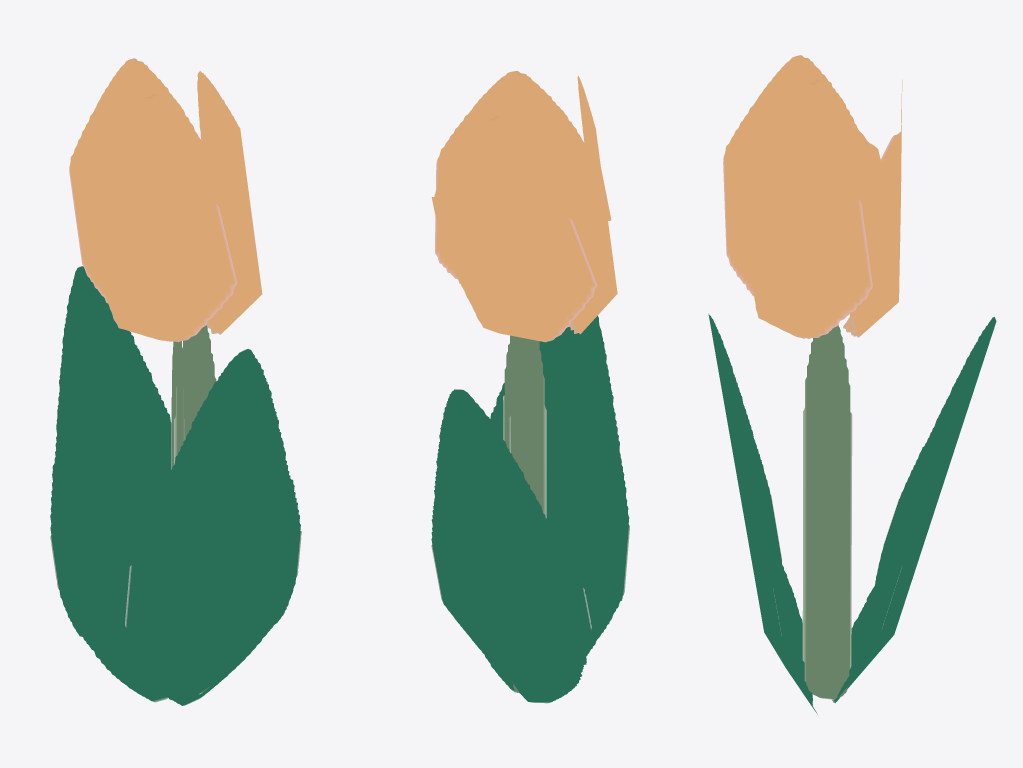
File: Tulip_o.fbx
3 views of the same model, side by side, from view 1: azimuth 30°, elevation 25°; view 2: azimuth 150°, elevation 25°; view 3: azimuth 270°, elevation 25° (orthographic). The views are drawn at different scales.
Visible parts, largest first — view 1: polySurface34; view 2: polySurface34; view 3: polySurface34.
Part boxes in pixels (<box>): polySurface34: <box>50,58,301,705</box>; polySurface34: <box>431,71,629,703</box>; polySurface34: <box>708,55,996,714</box>.
Size of the model in its own units: 0.1498 by 0.3176 by 0.1319.
